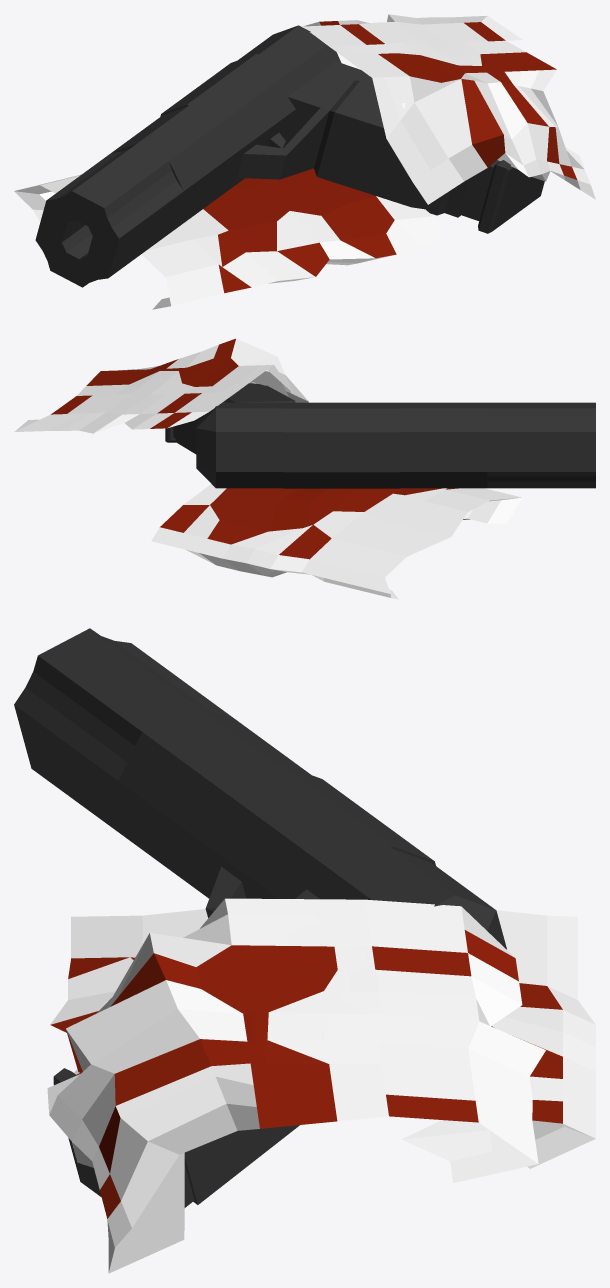
File: bloodied silk gun.fbx
The picture shows the model from 3 angles, top to bottom: view 1: azimuth 30°, elevation 25°; view 2: azimuth 150°, elevation 25°; view 3: azimuth 270°, elevation 25°; orthographic projection. The views are drawn at different scales.
Parts seen in each view (by area): view 1: gun:pCube1, pPlane2, pPlane1; view 2: gun:pCube1, pPlane1, pPlane2; view 3: pPlane2, gun:pCube1, pPlane1.
Boxes of the visible parts, bbox=[...] form: gun:pCube1: bbox=[35, 25, 544, 287]; pPlane2: bbox=[302, 14, 595, 204]; pPlane1: bbox=[14, 168, 442, 309]; gun:pCube1: bbox=[165, 383, 595, 488]; pPlane1: bbox=[151, 484, 521, 599]; pPlane2: bbox=[14, 338, 308, 433]; pPlane2: bbox=[47, 898, 545, 1273]; gun:pCube1: bbox=[14, 628, 506, 1207]; pPlane1: bbox=[50, 909, 595, 1168].
Size of the model in its own units: 6.94 by 1.81 by 3.73.
